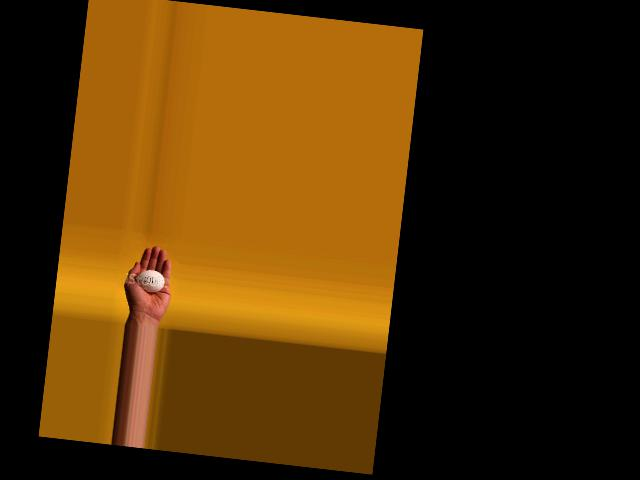egg: (135, 268, 166, 293)
